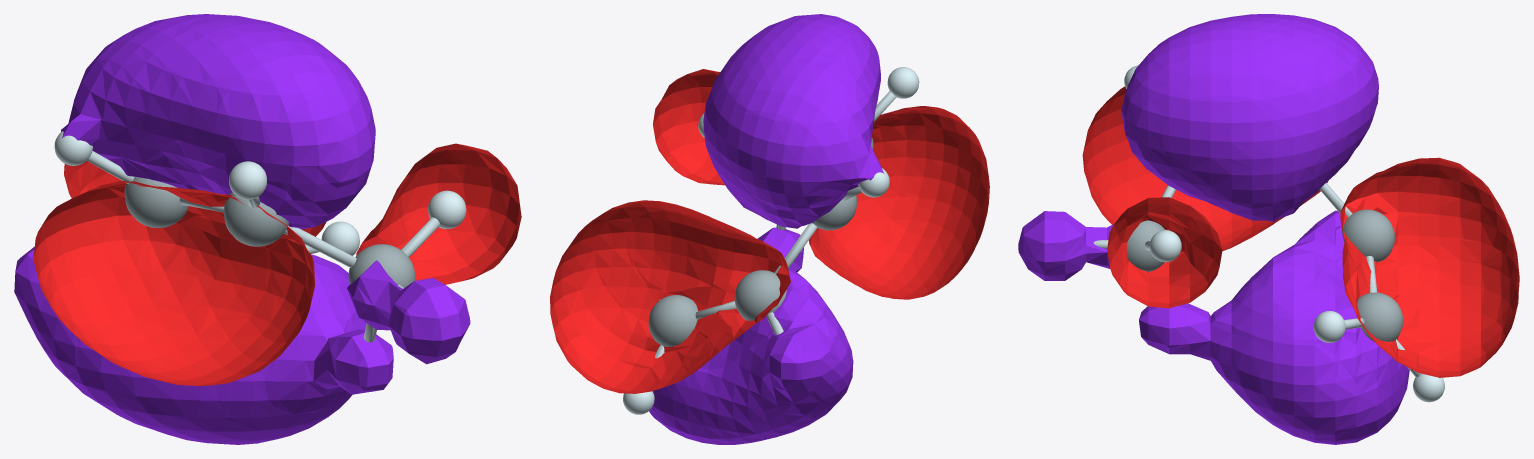
3 views of the same model, side by side, from view 1: azimuth 30°, elevation 25°; view 2: azimuth 150°, elevation 25°; view 3: azimuth 270°, elevation 25° (orthographic). The views are drawn at different scales.
Parts seen in each view (by area): view 1: Renderer Node; view 2: Renderer Node; view 3: Renderer Node.
Part boxes in pixels (x1=…): Renderer Node: x1=14, y1=14, x2=521, y2=444; Renderer Node: x1=550, y1=14, x2=989, y2=444; Renderer Node: x1=1018, y1=14, x2=1519, y2=444.
Size of the model in its own units: 4.96 by 5.26 by 6.23.
